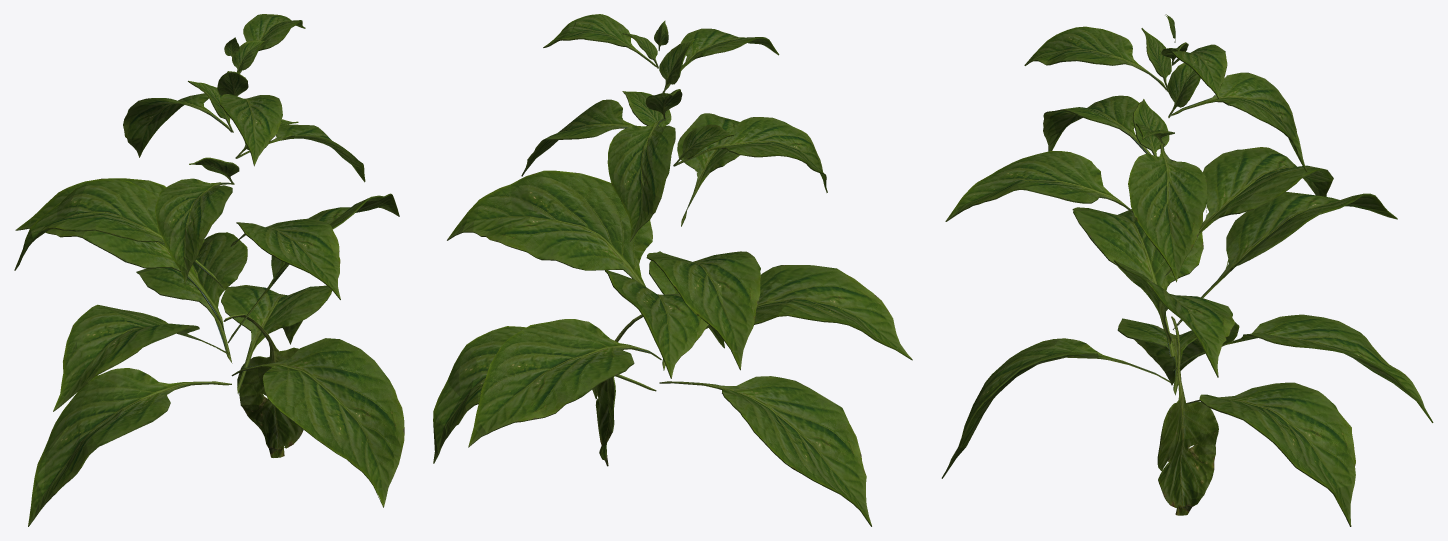
File: VG07_2_leaves.dae
3 views of the same model, side by side, from view 1: azimuth 30°, elevation 25°; view 2: azimuth 150°, elevation 25°; view 3: azimuth 270°, elevation 25° (orthographic). The views are drawn at different scales.
Visible parts, largest first — view 1: VG07_005; view 2: VG07_005; view 3: VG07_005.
Boxes of the visible parts, left/top/right/bottom form: VG07_005: left=14, top=14, right=404, bottom=526; VG07_005: left=433, top=14, right=912, bottom=526; VG07_005: left=941, top=14, right=1433, bottom=526.
Size of the model in its own units: 14.89 by 14.6 by 15.71.
